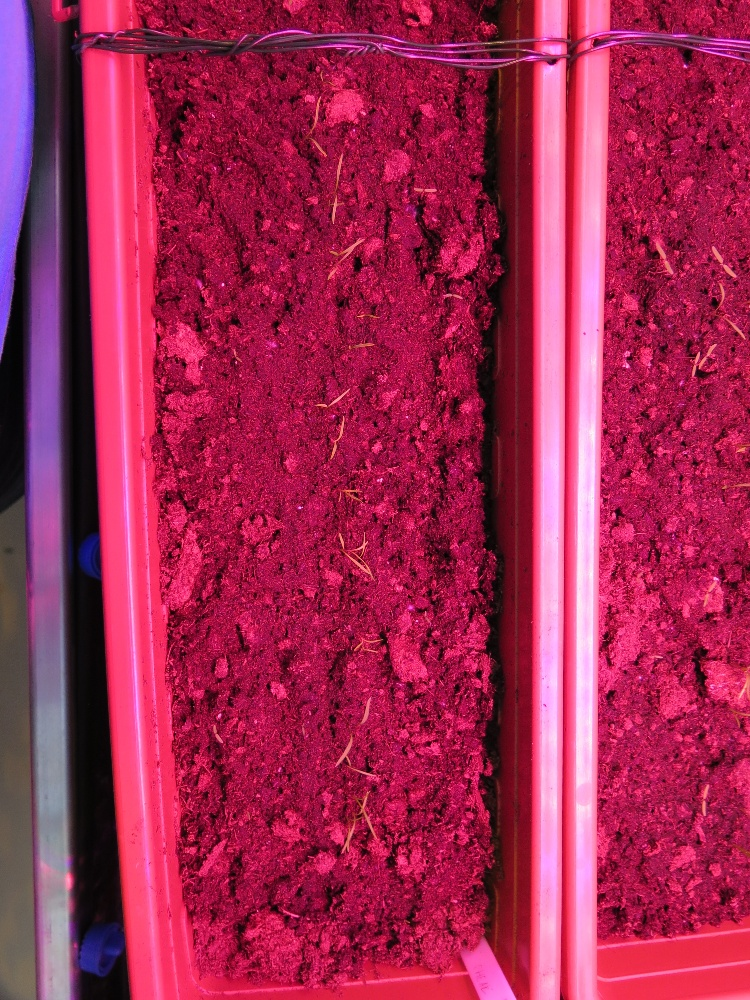crop: (332, 696, 373, 772), (334, 525, 386, 584), (338, 785, 380, 853), (321, 143, 352, 232), (293, 92, 331, 162), (322, 237, 368, 284), (309, 385, 362, 412), (323, 410, 350, 463), (348, 623, 381, 662), (335, 481, 365, 511), (350, 336, 387, 354), (351, 309, 381, 320)
weed: (711, 242, 738, 280), (655, 238, 674, 278), (701, 778, 710, 820), (211, 721, 224, 750), (412, 185, 438, 195)
